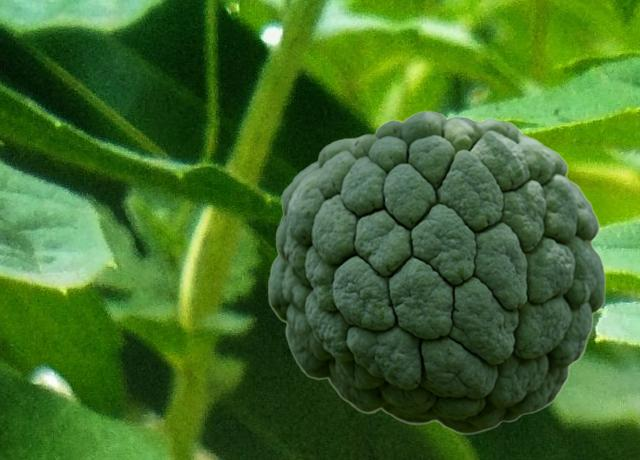atis: (267, 110, 605, 434)
